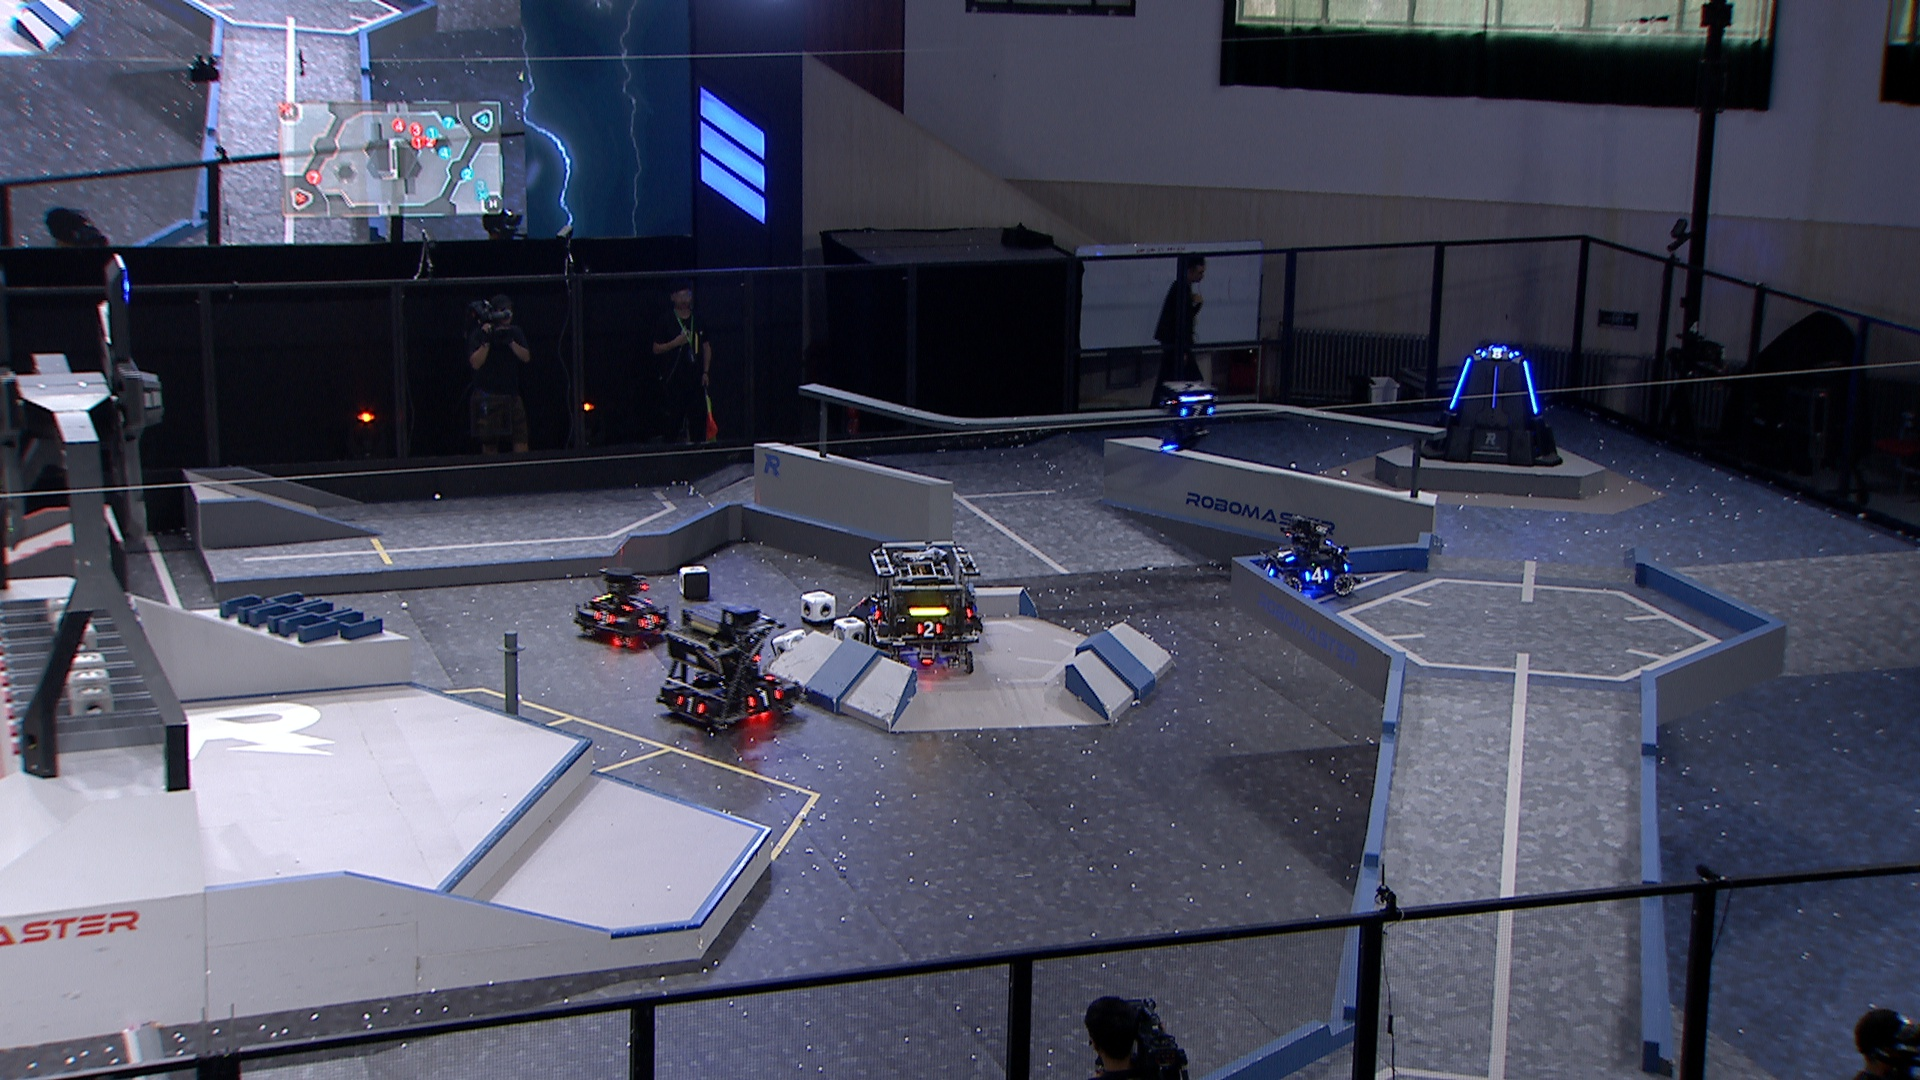armor: (1449, 357, 1476, 414), (1520, 357, 1542, 415), (744, 687, 785, 712), (674, 694, 705, 717), (915, 618, 944, 640), (1176, 404, 1215, 419), (1302, 566, 1332, 585), (1489, 367, 1501, 413), (1480, 348, 1516, 363), (618, 597, 651, 613), (591, 608, 615, 626), (1273, 546, 1295, 564), (638, 613, 661, 629), (1258, 560, 1276, 579)
base: (1416, 344, 1567, 469)
car: (655, 595, 803, 737), (868, 542, 986, 673), (1254, 513, 1358, 599), (572, 567, 667, 650)
watcher: (1156, 381, 1218, 454)
